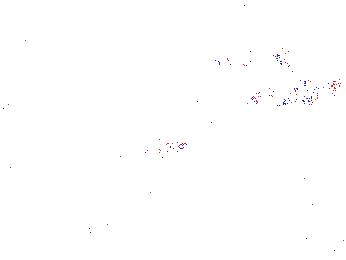X-ray fish: (107, 8, 165, 50)
glassfish: (79, 138, 189, 187)
redtail glassfish: (212, 49, 290, 72), (289, 79, 341, 103), (248, 87, 290, 114), (294, 45, 335, 68)
